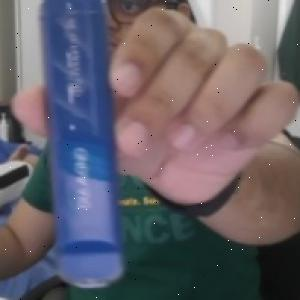Diamond-E-Ciggirate: (42, 0, 129, 291)
